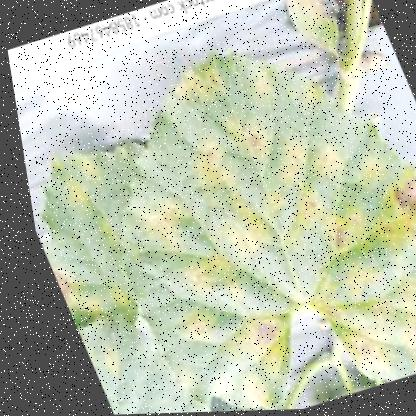DownyMildew: (132, 98, 360, 284), (269, 217, 415, 398), (170, 285, 295, 390)
